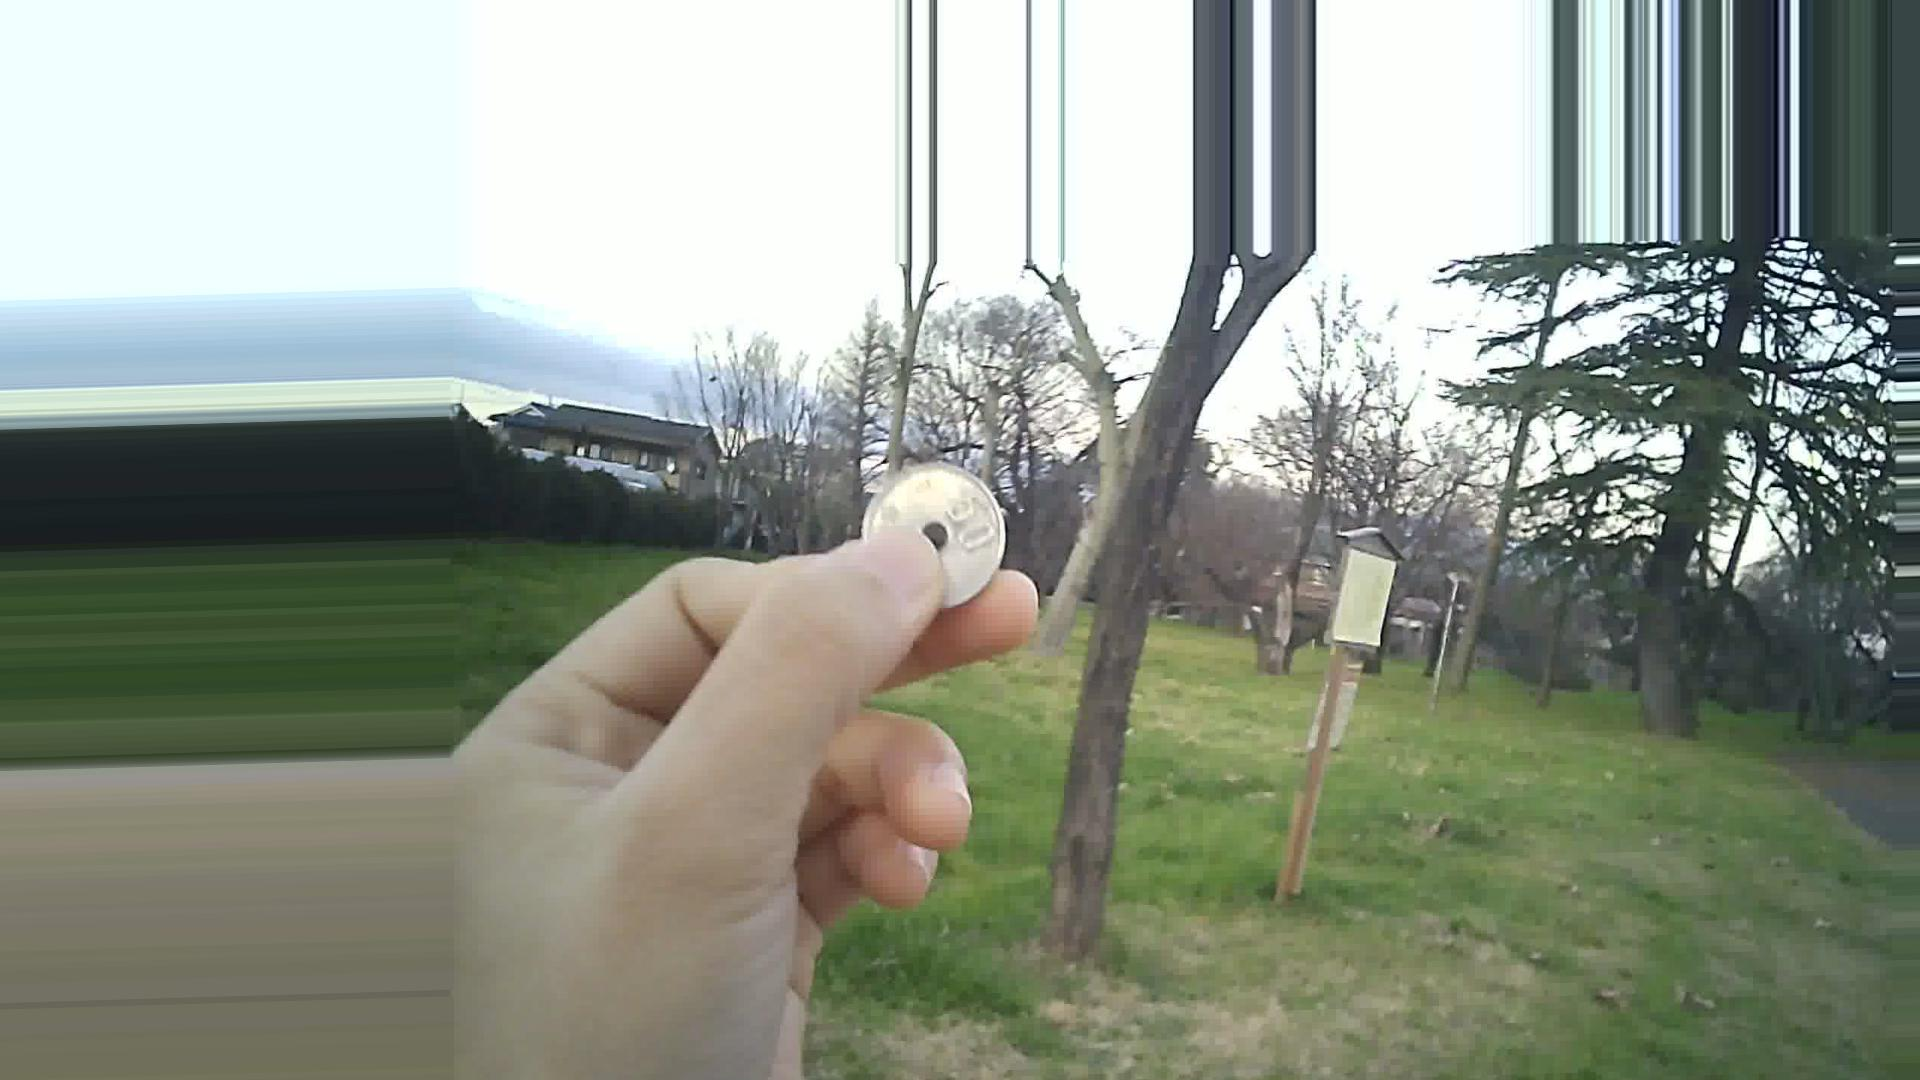50 Yen: (862, 460, 1013, 612)
